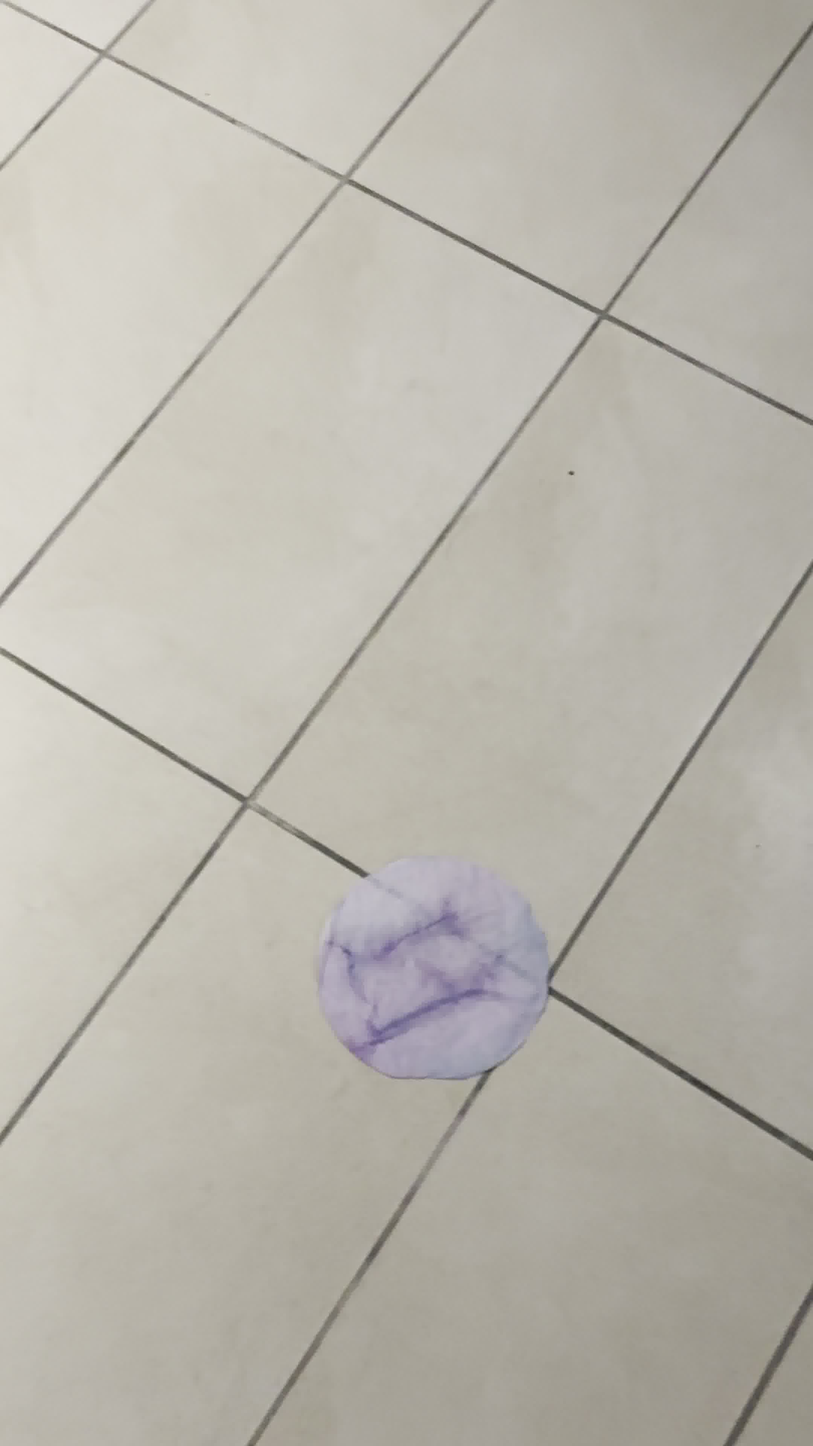Target: (309, 857, 551, 1078)
